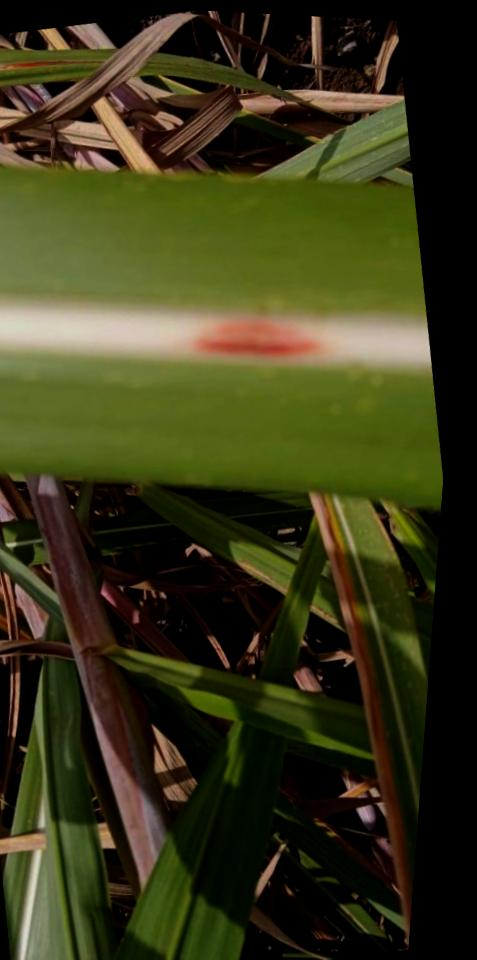RedRot: (190, 322, 328, 358)
